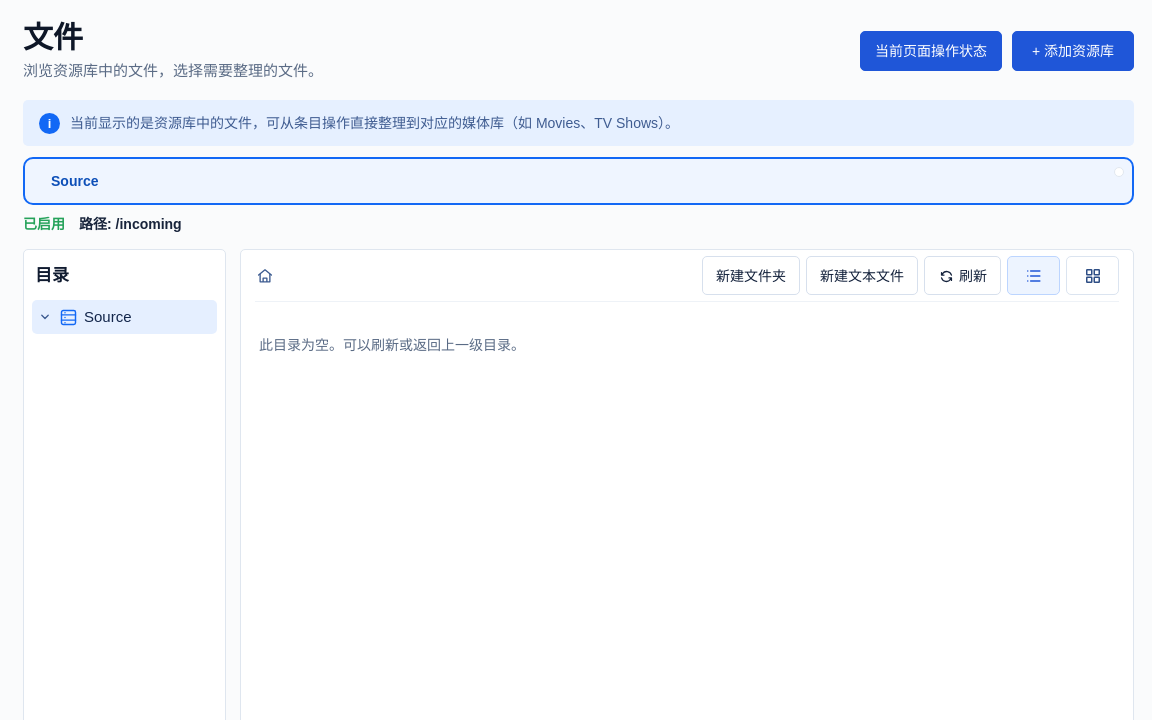
current page operation status › explains an unavailable control projection instead of inventing one
Click the button "当前页面操作状态": point(931, 51) [860,31,1002,71]
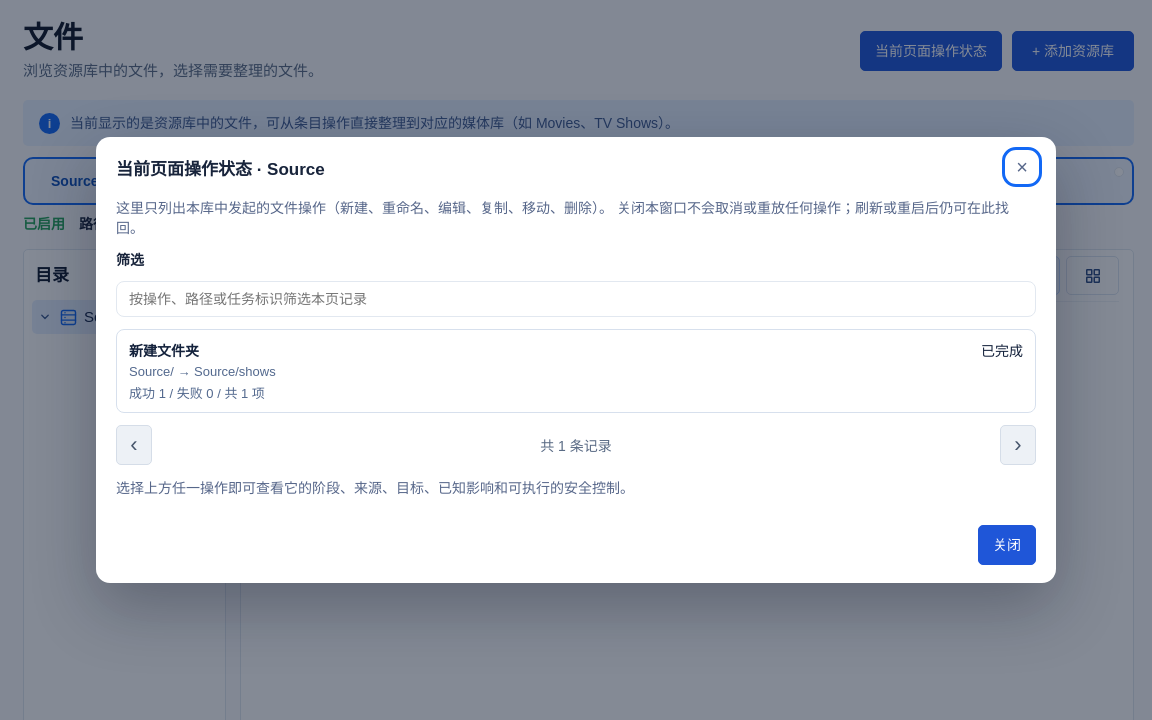
Click the button with aria-label "操作 新建文件夹 task-1": point(164, 351) [116,329,1036,413]
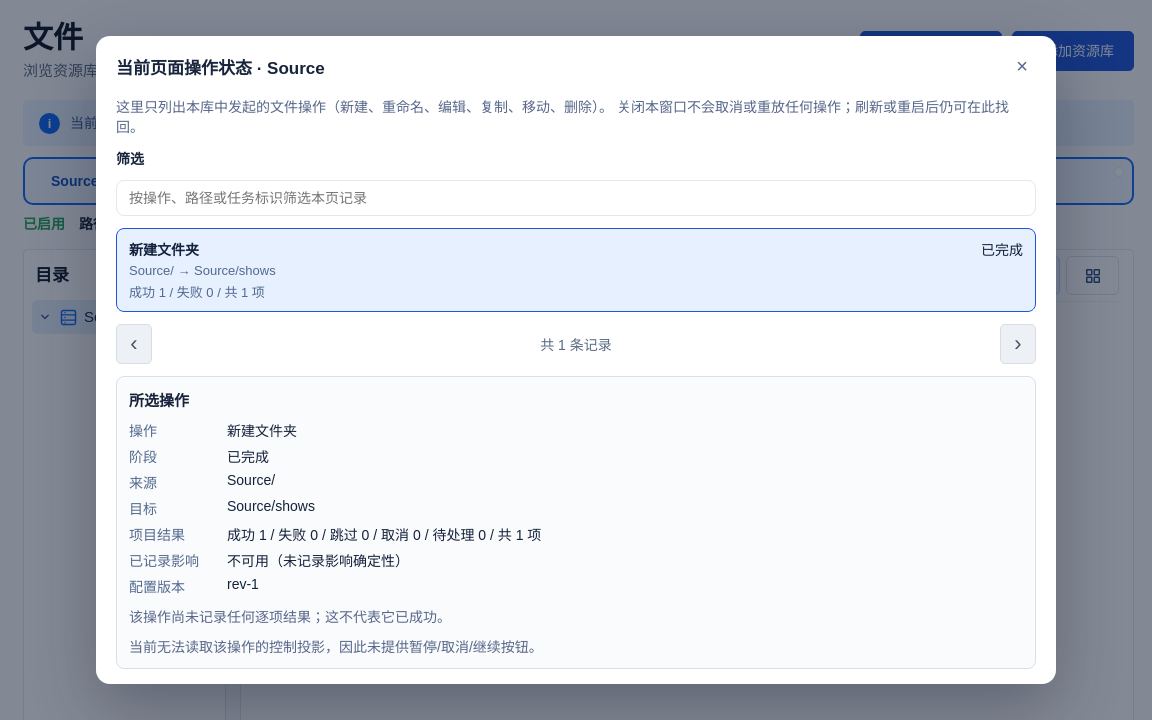
expect the text "当前无法读取该操作的控制投影，因此未提供暂停/取消/继续按钮。" is shown: met, box [129,639,543,655]
